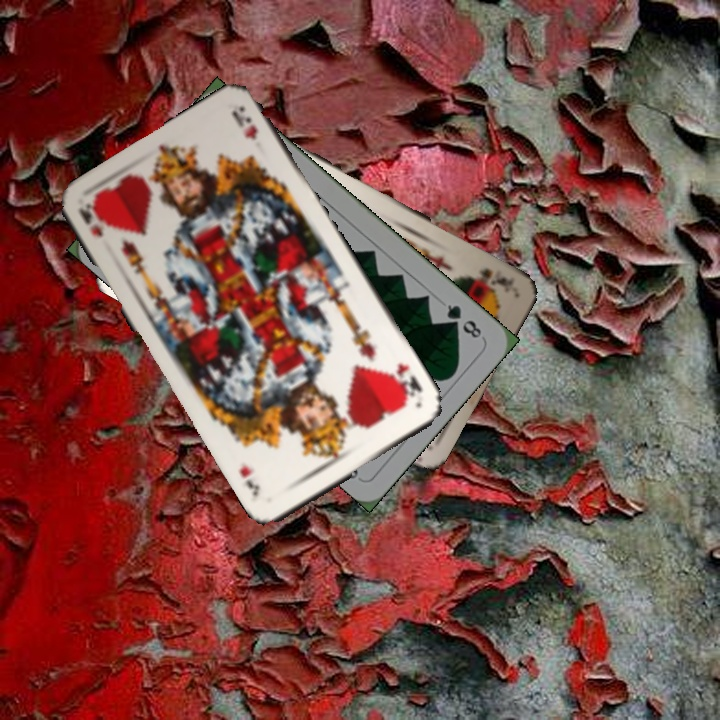G8: (442, 300, 485, 341)
HK: (388, 359, 425, 402), (75, 200, 108, 240)
SK: (473, 264, 518, 295)
